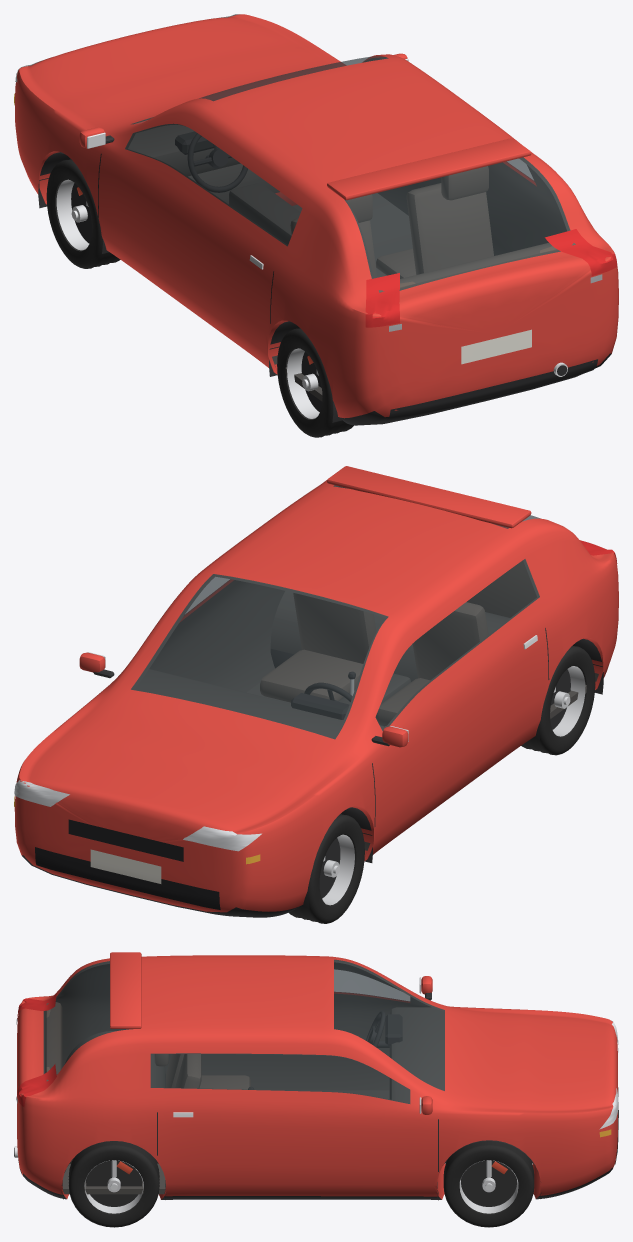
File: kestrel_gti.glb
3 views of the same model, one above another, from view 1: azimuth 30°, elevation 25°; view 2: azimuth 150°, elevation 25°; view 3: azimuth 270°, elevation 25° (orthographic). The views are drawn at different scales.
Parts seen in each view (by area): view 1: Body, Glass, Interior, Wheel_FL, Wheel_RL, Lights_Tail, SteeringWheel; view 2: Body, Glass, Interior, Wheel_FL, Wheel_RL, Lights_Head; view 3: Body, Glass, Interior, Wheel_FR, Wheel_RR, Lights_Tail, SteeringWheel.
Boxes of the visible parts, x1,y1,x2,y2 form: Body: (14, 14, 618, 425); Glass: (126, 55, 569, 290); Interior: (125, 57, 575, 401); Wheel_FL: (46, 159, 120, 268); Wheel_RL: (277, 328, 353, 437); Lights_Tail: (365, 229, 617, 327); SteeringWheel: (187, 133, 247, 192); Body: (14, 466, 618, 917); Glass: (131, 485, 540, 739); Interior: (131, 485, 598, 850); Wheel_FL: (289, 813, 364, 923); Wheel_RL: (521, 646, 595, 755); Lights_Head: (14, 780, 261, 851); Body: (14, 952, 618, 1200); Glass: (44, 960, 444, 1103); Interior: (43, 959, 444, 1194); Wheel_FR: (443, 1141, 534, 1227); Wheel_RR: (68, 1141, 159, 1227); Lights_Tail: (17, 993, 56, 1106); SteeringWheel: (366, 1011, 385, 1047).
Size of the model in its own units: 2.12 by 1.43 by 4.2.
